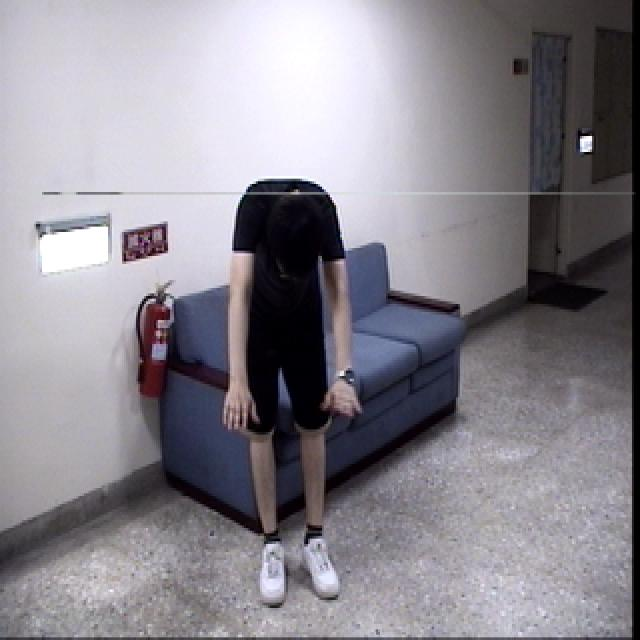bend: (215, 180, 384, 610)
